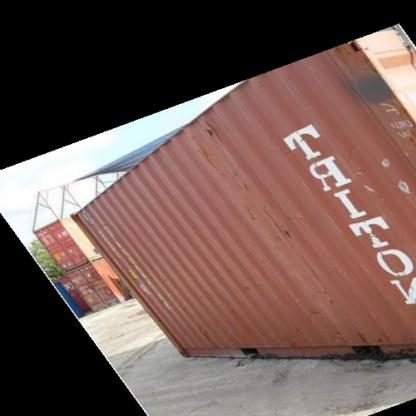Damage: (374, 142, 416, 212), (263, 205, 303, 258), (376, 92, 413, 141), (194, 117, 221, 172), (347, 325, 391, 349), (240, 273, 252, 300)
